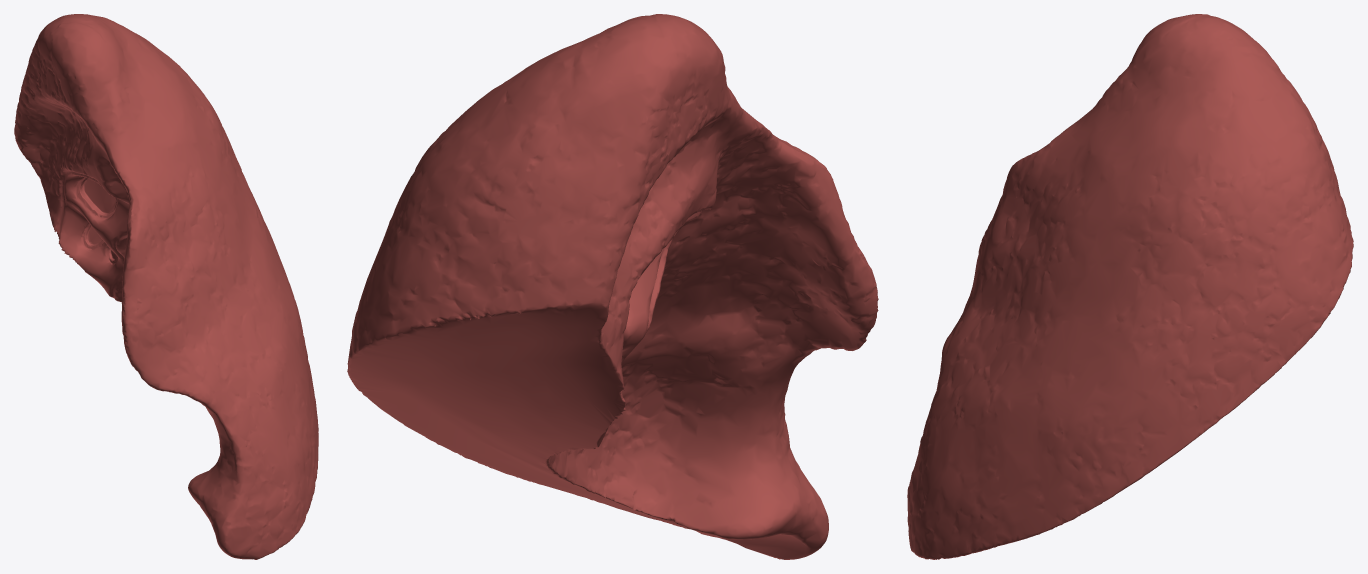
File: FMA7370.glb
3 views of the same model, side by side, from view 1: azimuth 30°, elevation 25°; view 2: azimuth 150°, elevation 25°; view 3: azimuth 270°, elevation 25° (orthographic). The views are drawn at different scales.
Visible parts, largest first — view 1: FMA7370; view 2: FMA7370; view 3: FMA7370.
Part boxes in pixels (bbox=[...]): FMA7370: bbox=[14, 14, 318, 559]; FMA7370: bbox=[347, 14, 878, 559]; FMA7370: bbox=[907, 14, 1353, 559].
Bounding box in the file's own units: 0.1137 × 0.208 × 0.1676.
